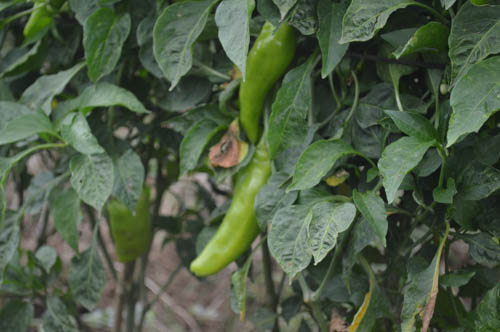ChiliPepper: (189, 151, 277, 286), (237, 23, 299, 146), (107, 199, 153, 267)
